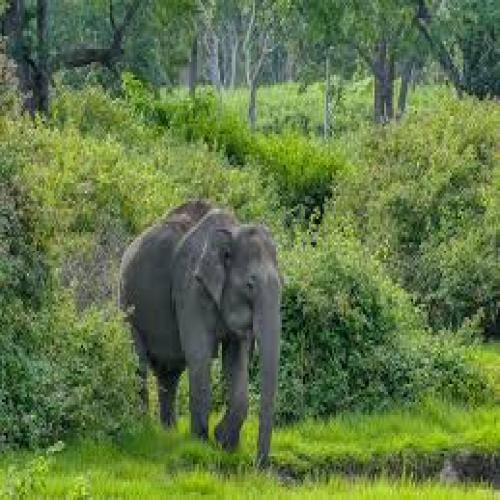asian_elephant-endangered: (119, 199, 282, 465)
